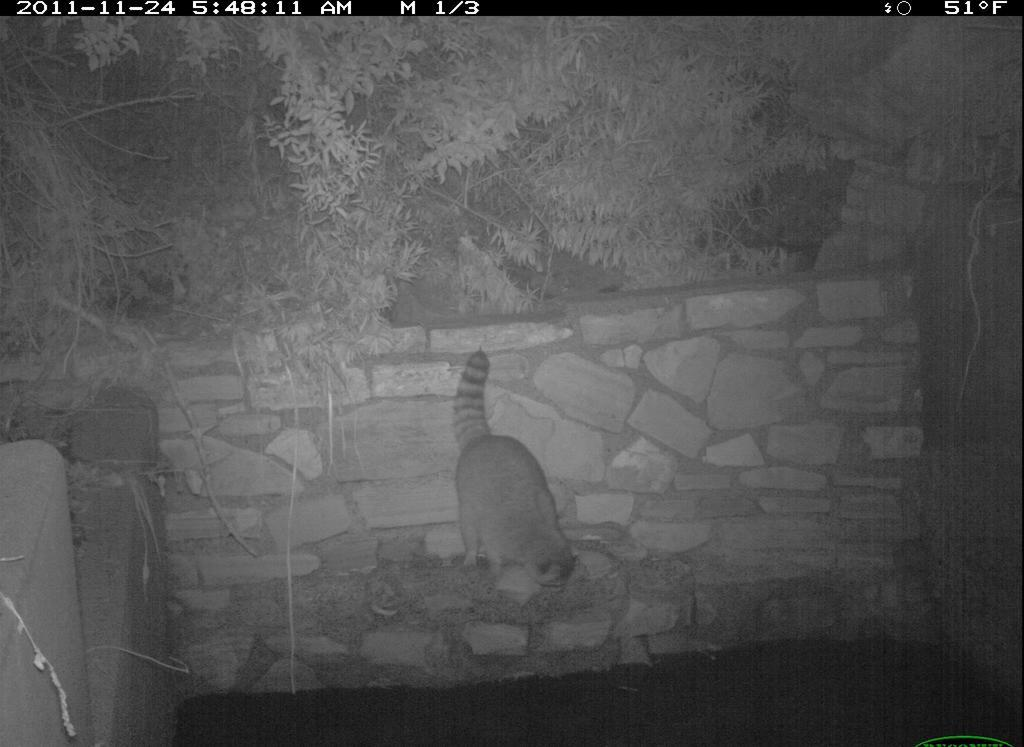raccoon: (441, 349, 588, 593)
